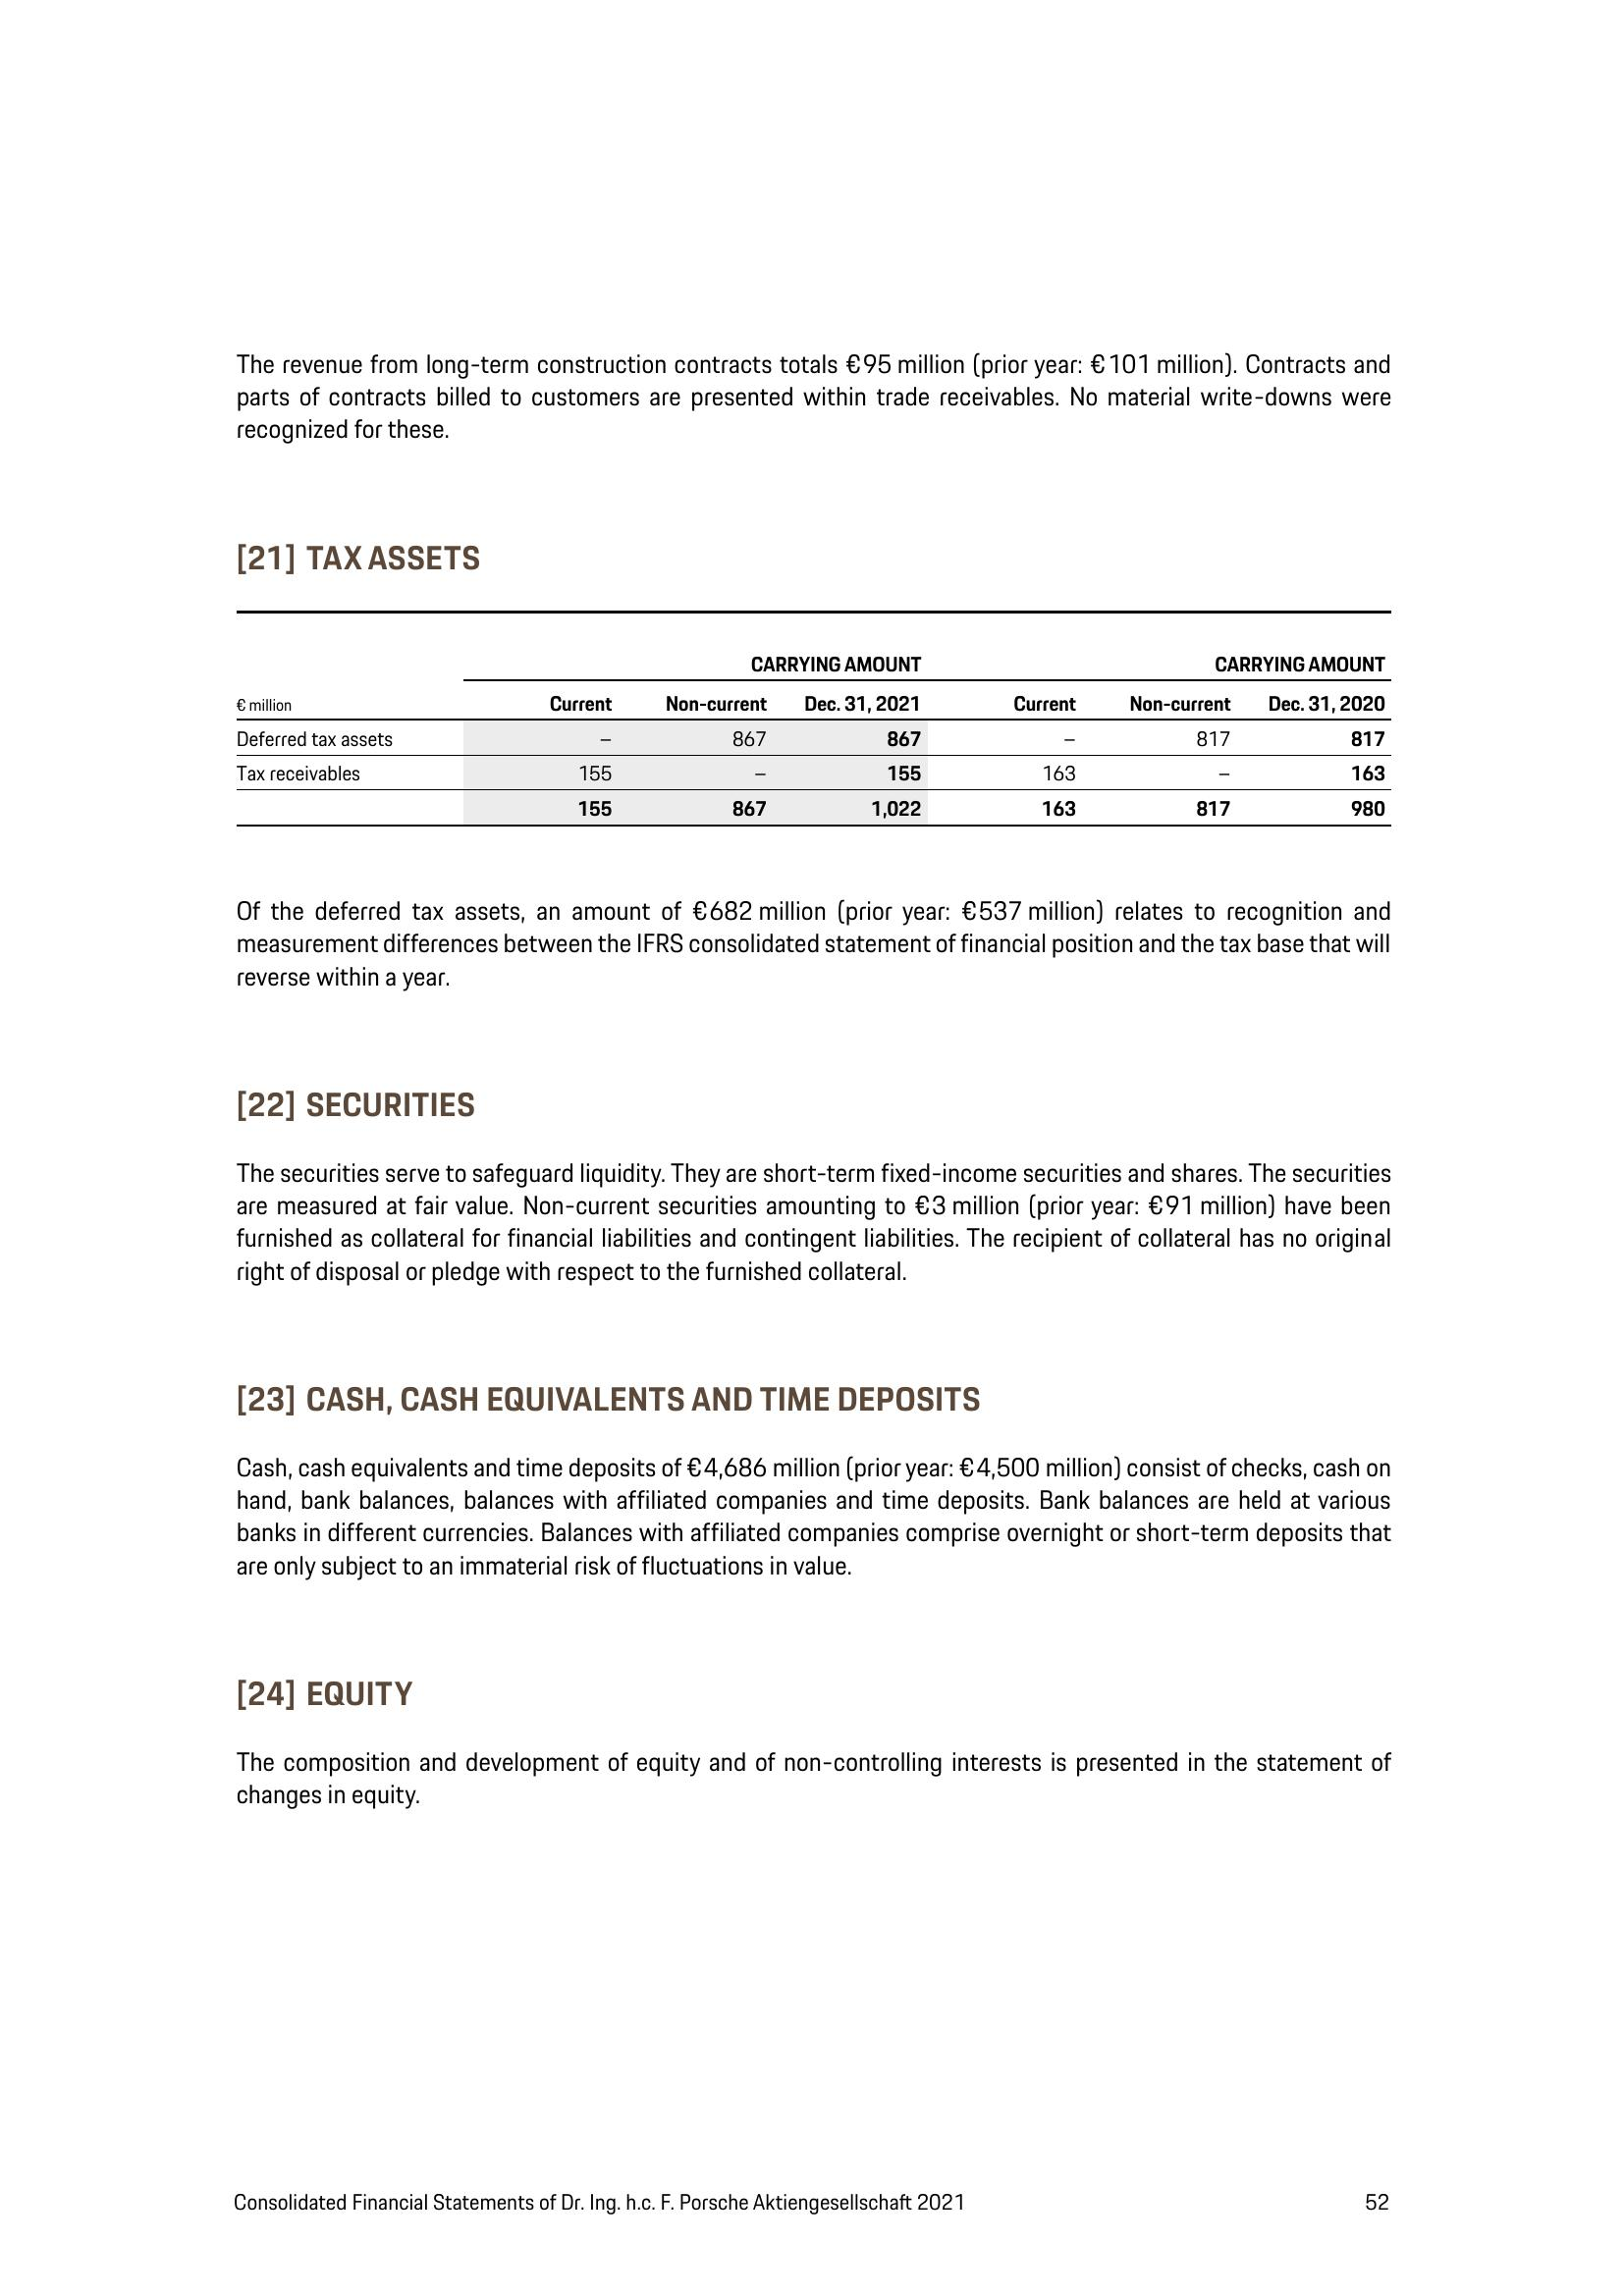Footer: (0, 2134, 1624, 2296)
Header: (0, 0, 1624, 179)
Table: (213, 604, 1425, 870)
